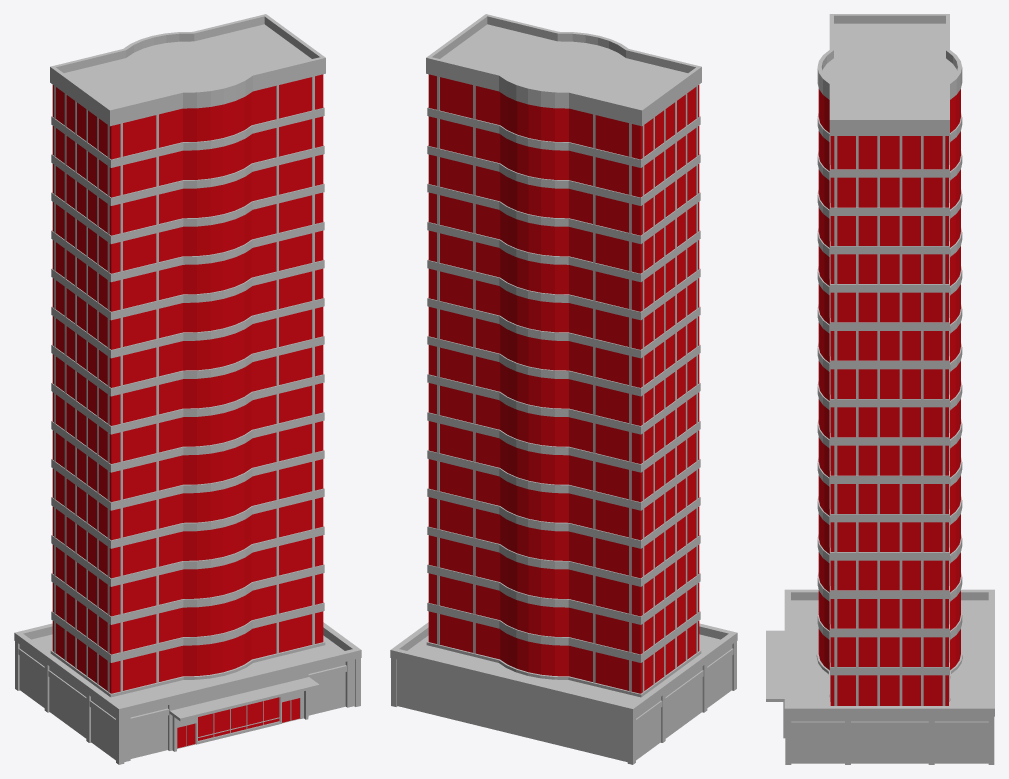
File: SM_skyscraper_02.gltf
3 views of the same model, side by side, from view 1: azimuth 30°, elevation 25°; view 2: azimuth 150°, elevation 25°; view 3: azimuth 270°, elevation 25° (orthographic).
Visible parts, largest first — view 1: skyscraper_02; view 2: skyscraper_02; view 3: skyscraper_02.
Part boxes in pixels (left/top/right/bottom): skyscraper_02: left=14, top=14, right=361, bottom=764; skyscraper_02: left=390, top=14, right=737, bottom=764; skyscraper_02: left=766, top=14, right=994, bottom=764.
Bounding box in the file's own units: 32 × 80.07 × 26.
